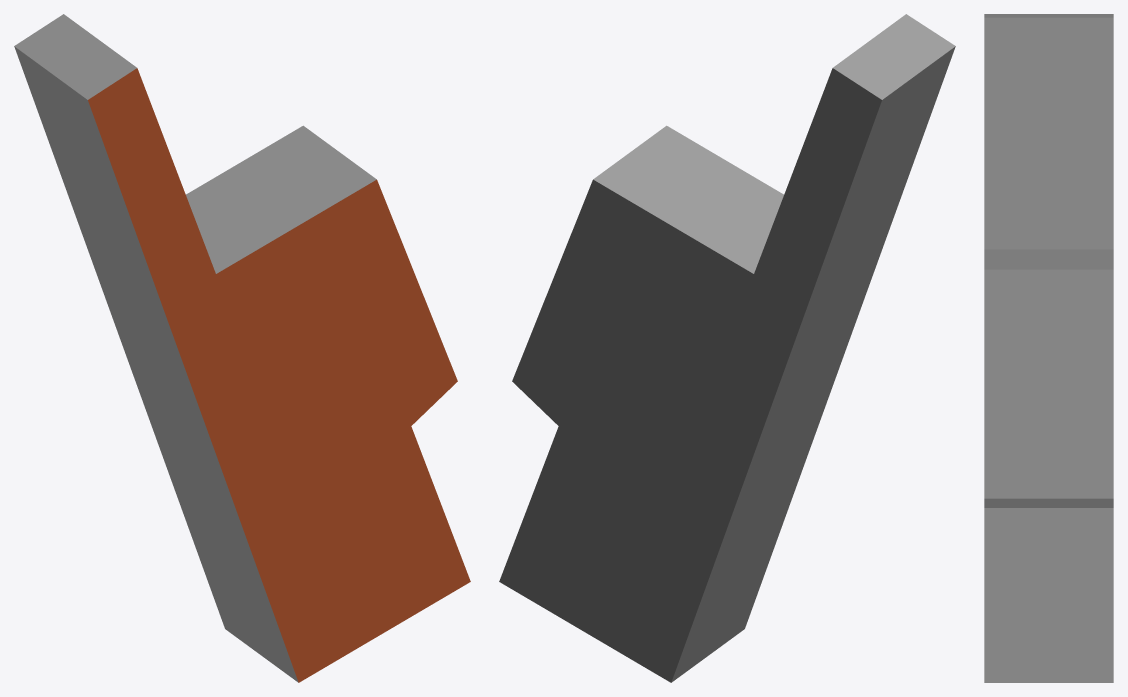
The model's file is construction_1335_assumed_A_Casa_h6m.obj.
3 views of the same model, side by side, from view 1: azimuth 30°, elevation 25°; view 2: azimuth 150°, elevation 25°; view 3: azimuth 270°, elevation 25° (orthographic). The views are drawn at different scales.
Parts seen in each view (by area): view 1: construction_1335_assumed_A_Casa; view 2: construction_1335_assumed_A_Casa; view 3: construction_1335_assumed_A_Casa.
Part boxes in pixels (x1,y1,x2,y2): construction_1335_assumed_A_Casa: (14,14,470,682); construction_1335_assumed_A_Casa: (499,14,955,682); construction_1335_assumed_A_Casa: (984,14,1113,682).
Size of the model in its own units: 18.01 by 29.4 by 6.
